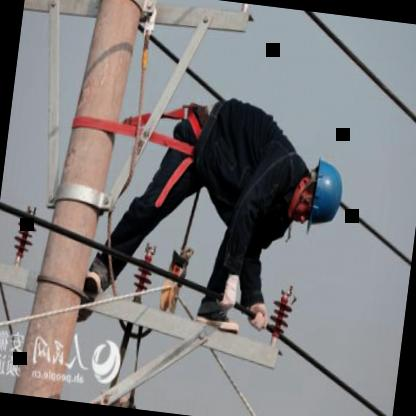helmet: (288, 158, 345, 239)
